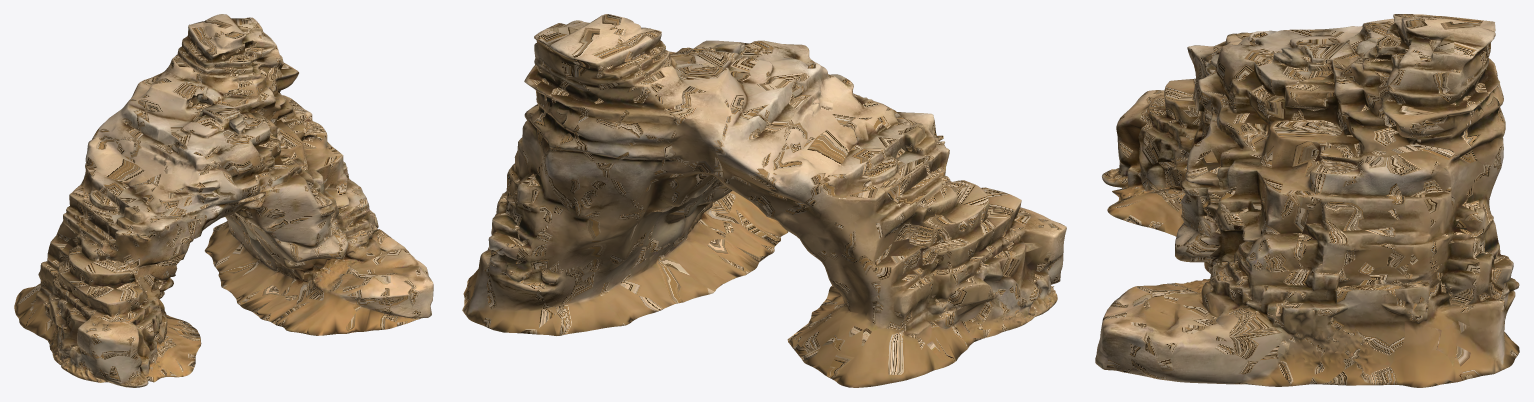
Rendered from Desert_Sandstone_Arch.glb.
3 renders of one model, left to right at view 1: azimuth 30°, elevation 25°; view 2: azimuth 150°, elevation 25°; view 3: azimuth 270°, elevation 25°, orthographic. The views are drawn at different scales.
Visible parts, largest first — view 1: Desert_Sandstone_Arch; view 2: Desert_Sandstone_Arch; view 3: Desert_Sandstone_Arch.
Boxes of the visible parts, x1,y1,x2,y2 form: Desert_Sandstone_Arch: (14,14,433,387); Desert_Sandstone_Arch: (462,14,1066,387); Desert_Sandstone_Arch: (1095,14,1519,387).
Size of the model in its own units: 1.9 by 1.11 by 1.45.
Materials: 1 (1 with a texture image).
